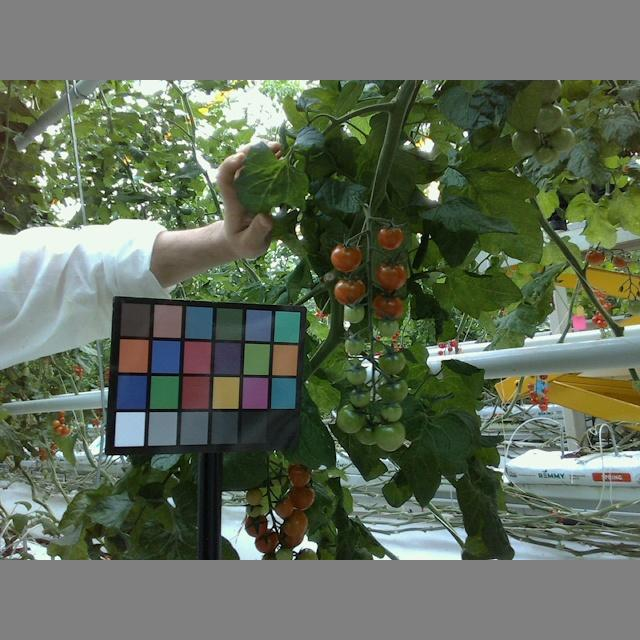green: (370, 419, 406, 450), (532, 102, 564, 133), (334, 405, 367, 434), (509, 128, 542, 157), (375, 376, 409, 401), (547, 126, 577, 153), (376, 350, 407, 373), (377, 401, 403, 422), (343, 301, 365, 323), (375, 316, 398, 337), (345, 362, 366, 385), (347, 388, 372, 407), (342, 336, 363, 358)
pink: (328, 242, 362, 272), (334, 276, 365, 305), (375, 261, 406, 288), (283, 513, 310, 540), (373, 295, 406, 317), (376, 226, 404, 251), (287, 485, 315, 510), (287, 460, 312, 487), (253, 529, 277, 552), (246, 514, 267, 536), (273, 495, 292, 516)
